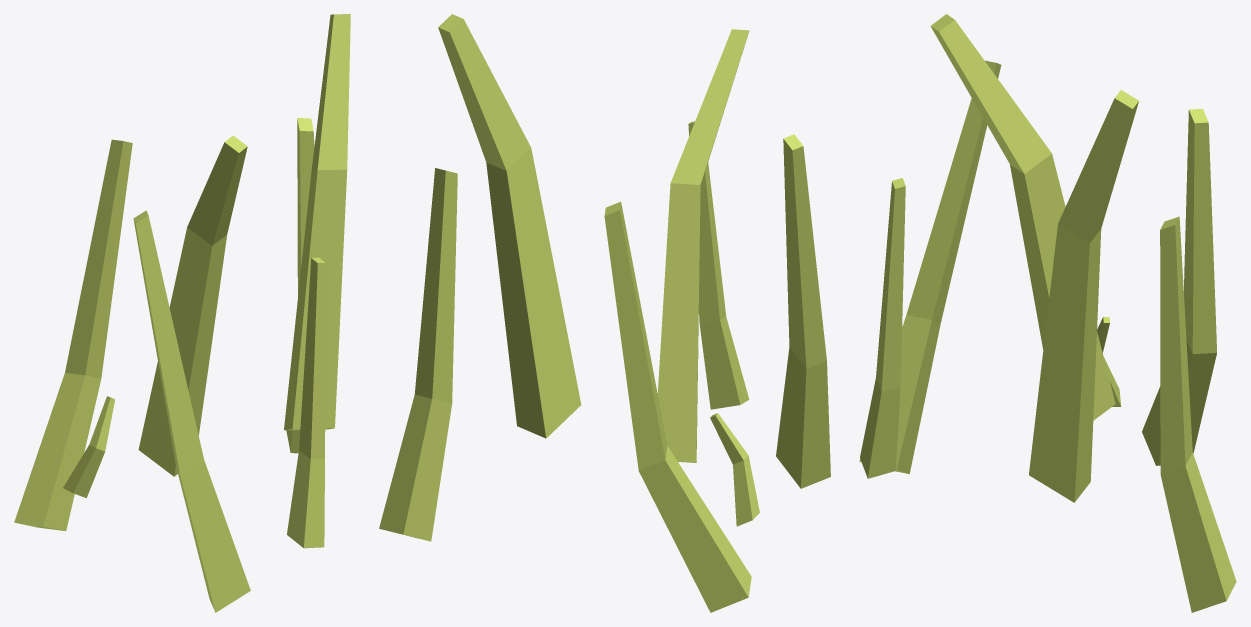
File: Carrot_1.fbx
3 renders of one model, left to right at view 1: azimuth 30°, elevation 25°; view 2: azimuth 150°, elevation 25°; view 3: azimuth 270°, elevation 25°, orthographic. The views are drawn at different scales.
Visible parts, largest first — view 1: 1_Carrot; view 2: 1_Carrot; view 3: 1_Carrot.
Boxes of the visible parts, x1=… form: 1_Carrot: x1=14, y1=14, x2=350, y2=612; 1_Carrot: x1=379, y1=14, x2=830, y2=612; 1_Carrot: x1=859, y1=14, x2=1236, y2=612.
Size of the model in its own units: 2.81 by 3.88 by 2.58.
